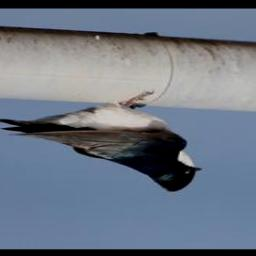Swallow: (0, 90, 201, 193)
